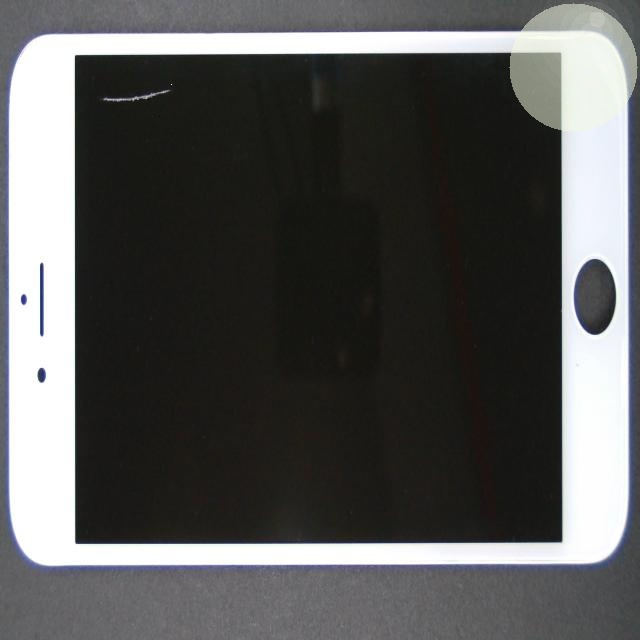scratch: (40, 62, 140, 186)
